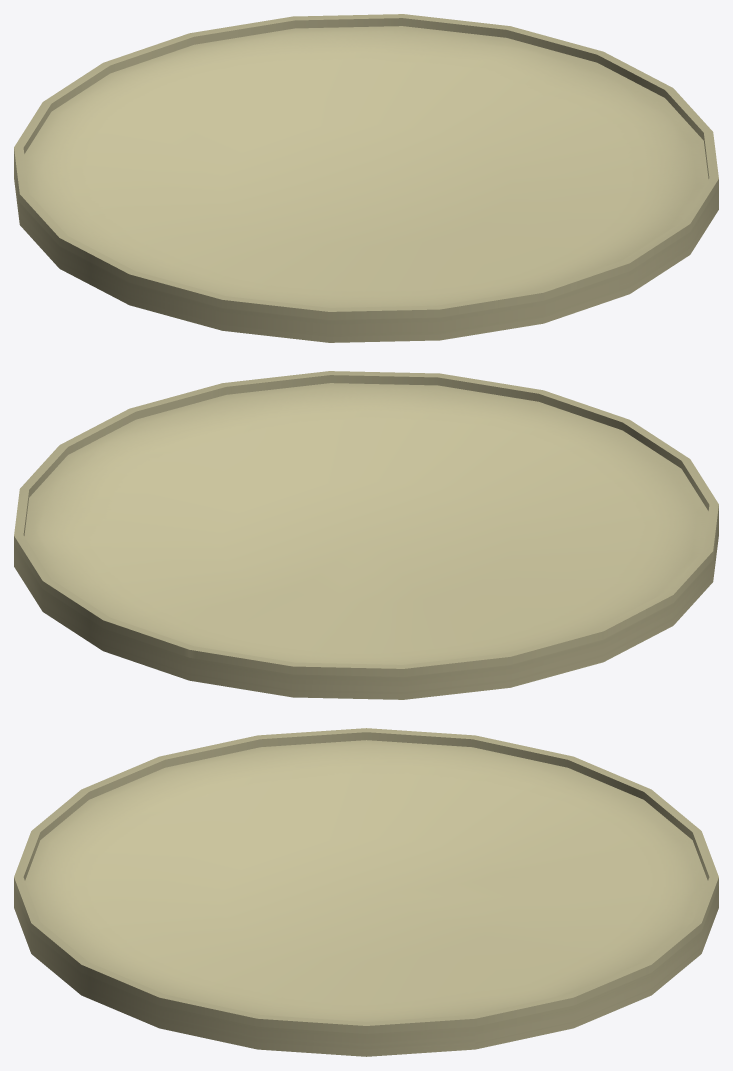
The model's file is plate.fbx.
3 views of the same model, one above another, from view 1: azimuth 30°, elevation 25°; view 2: azimuth 150°, elevation 25°; view 3: azimuth 270°, elevation 25° (orthographic).
Visible parts, largest first — view 1: pCylinder1; view 2: pCylinder1; view 3: pCylinder1.
Boxes of the visible parts, x1,y1,x2,y2 form: pCylinder1: [14, 14, 718, 342]; pCylinder1: [14, 371, 718, 699]; pCylinder1: [14, 728, 718, 1056].
Bounding box in the file's own units: 32.34 × 2.13 × 32.34.
Materials: 1 (1 with a texture image).
